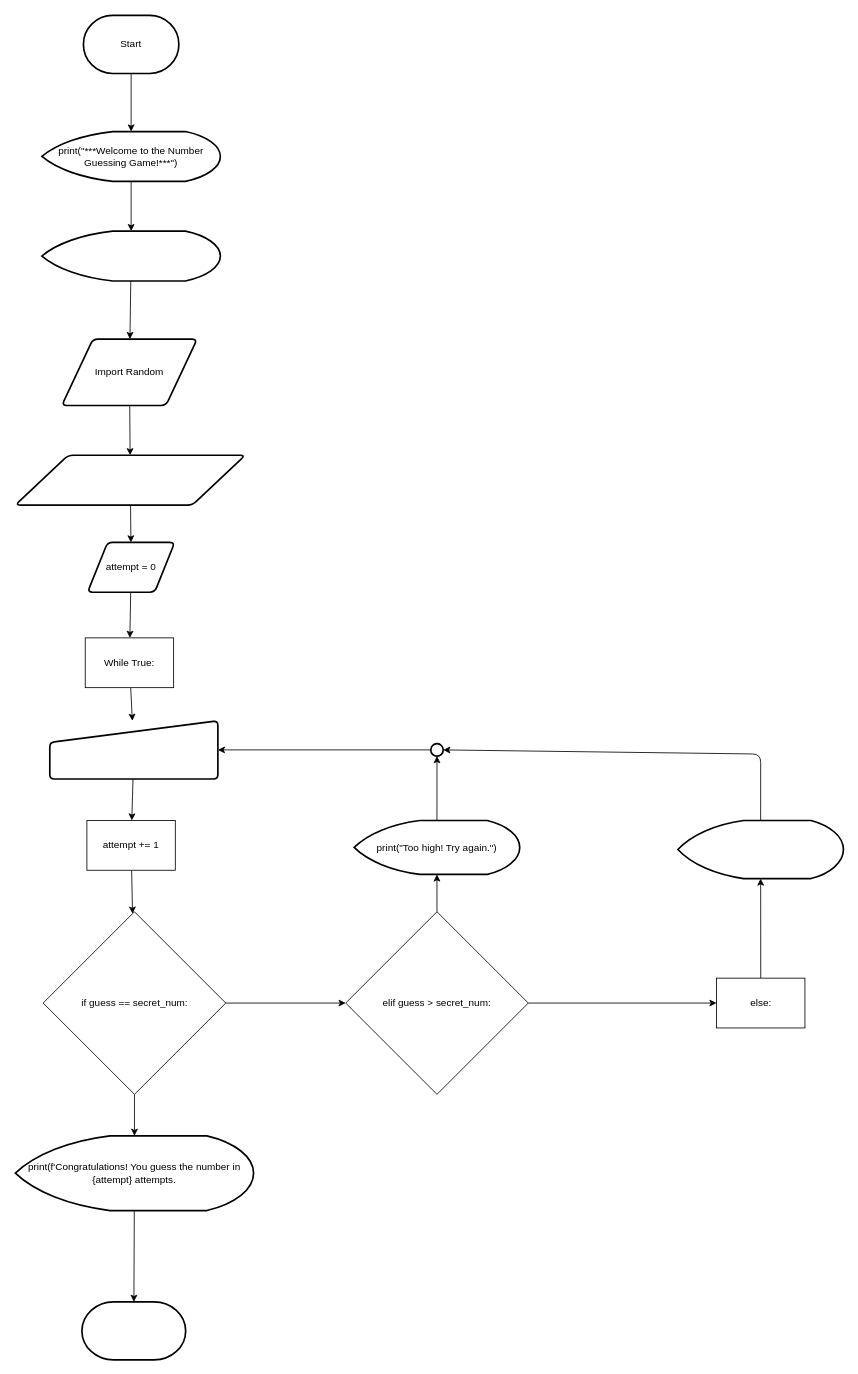
Some shapes in this 858 by 1374 pixel diagram are drawn without their labels. Here are the shapes that lost their labels. From the top down, the centre of each, then its label:
pixel 131 255: print("I'm thinking of a number between 1 and 100. Can you guess it?")
pixel 130 479: secret_num = random,randint(1, 100)
pixel 133 749: guess = int(input("Enter your guss: ")
pixel 760 849: print("Too low! Try again.")
pixel 133 1330: End
